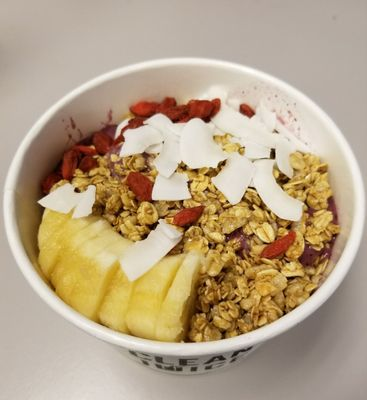sushi: (5, 57, 354, 395)
